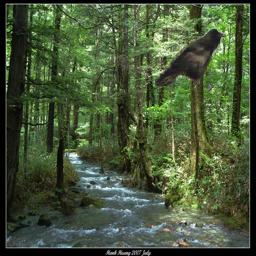Crow: (156, 28, 227, 87)
